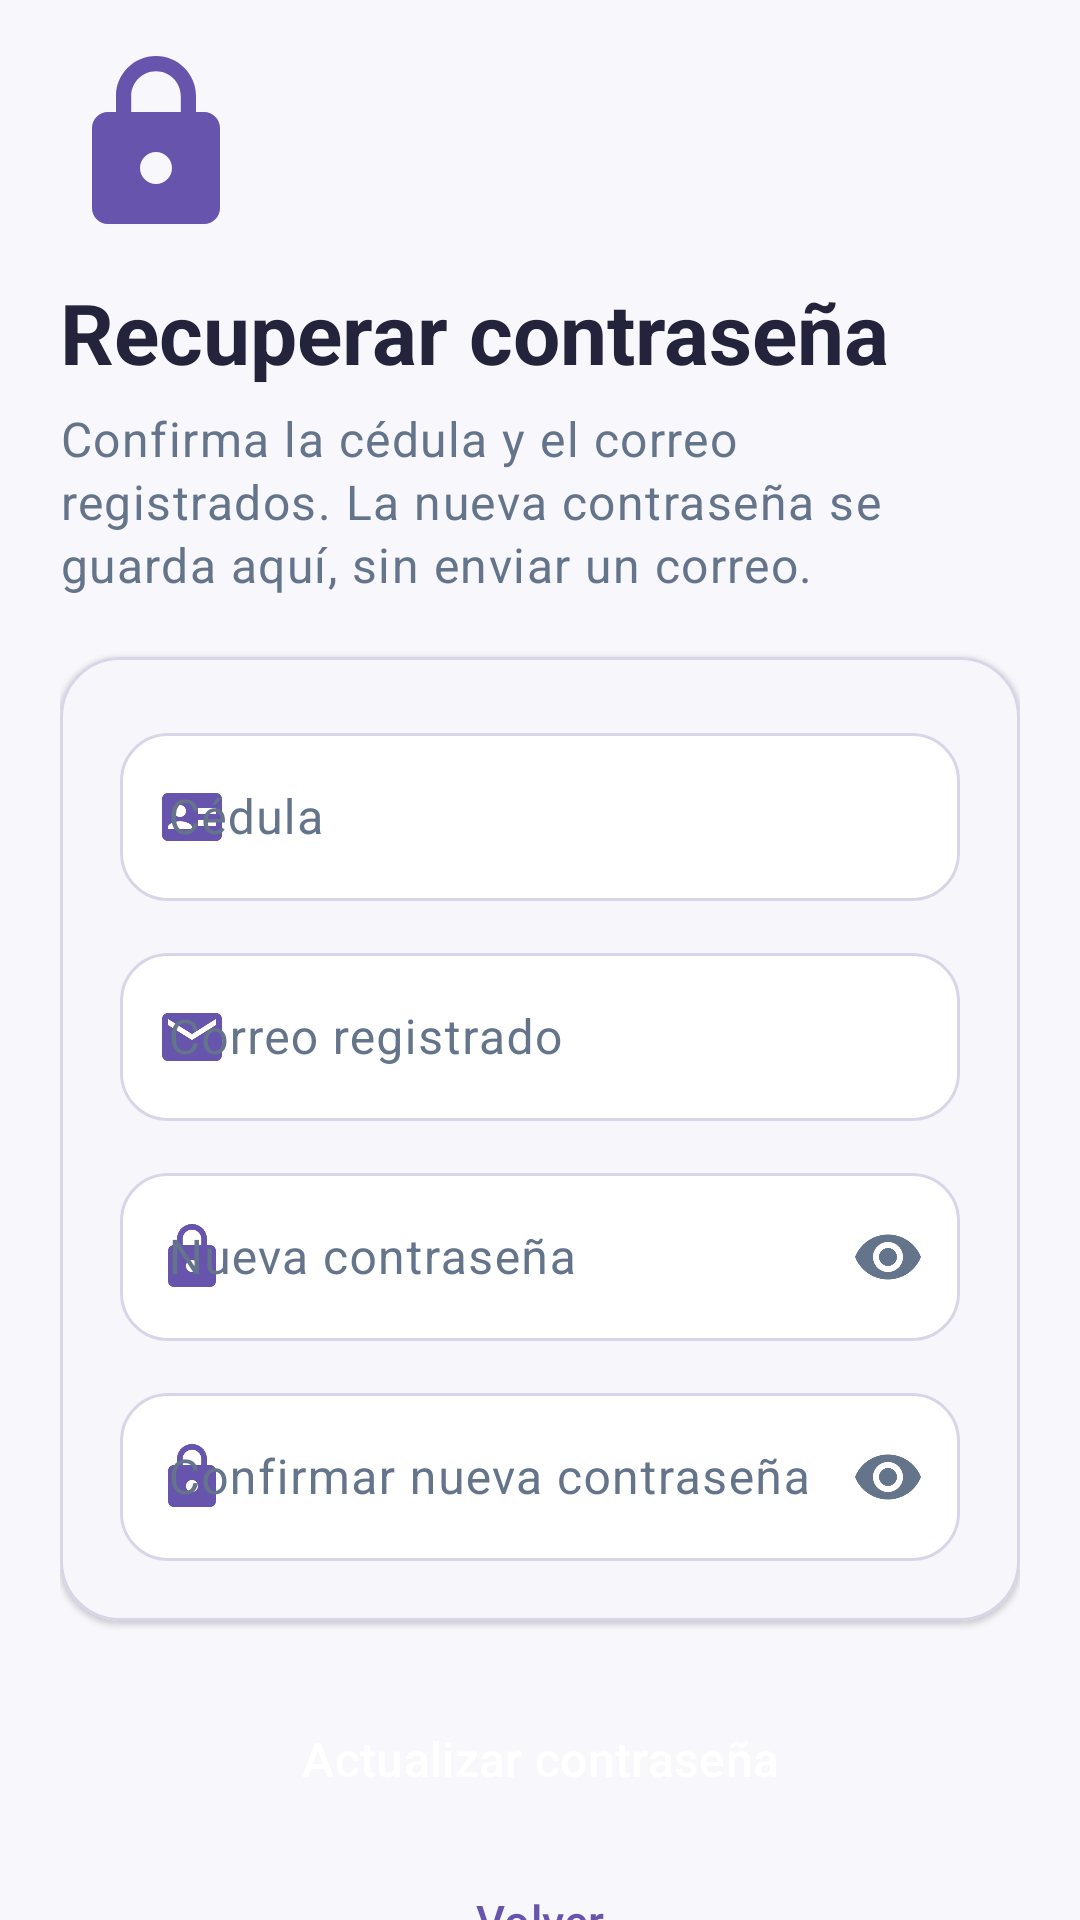

Icons on this 1080 × 1920 Android screen, each with the point to tap as (x=x, y=y):
Seguridad de la cuenta: (x=156, y=140)
